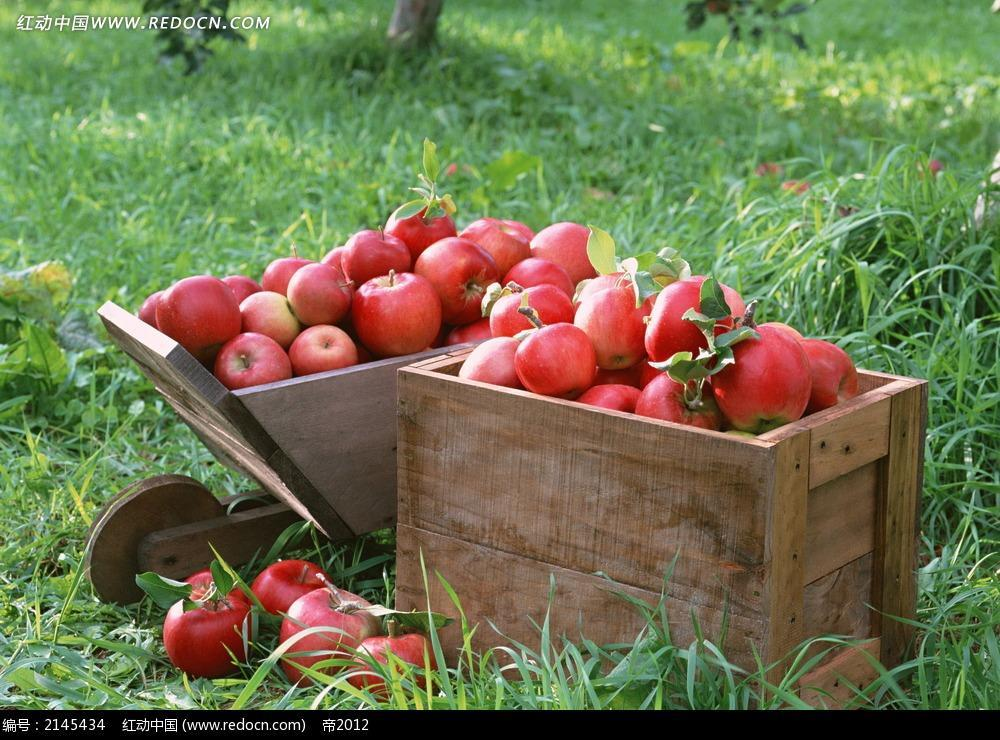apple: (709, 328, 823, 435), (154, 581, 252, 669), (278, 588, 372, 679), (350, 269, 443, 358), (416, 234, 502, 316), (153, 273, 240, 349), (647, 280, 728, 361), (519, 318, 600, 399), (569, 287, 650, 368), (349, 617, 435, 692), (213, 327, 288, 391), (284, 321, 357, 372), (342, 228, 407, 284)
